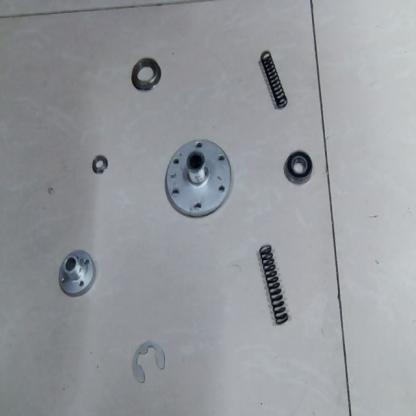FOD: (0, 0, 412, 415), (162, 134, 233, 224), (255, 239, 291, 330), (256, 45, 292, 113), (55, 247, 97, 301), (128, 338, 169, 387), (282, 145, 317, 187), (130, 54, 164, 96), (88, 152, 110, 176)
